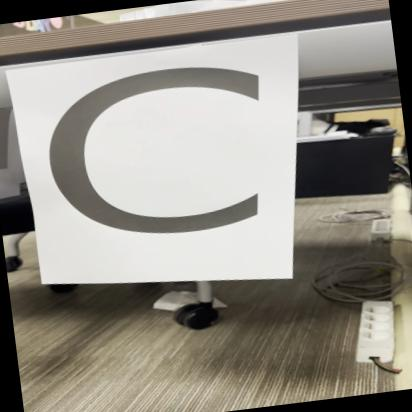seat: (13, 38, 302, 294)
